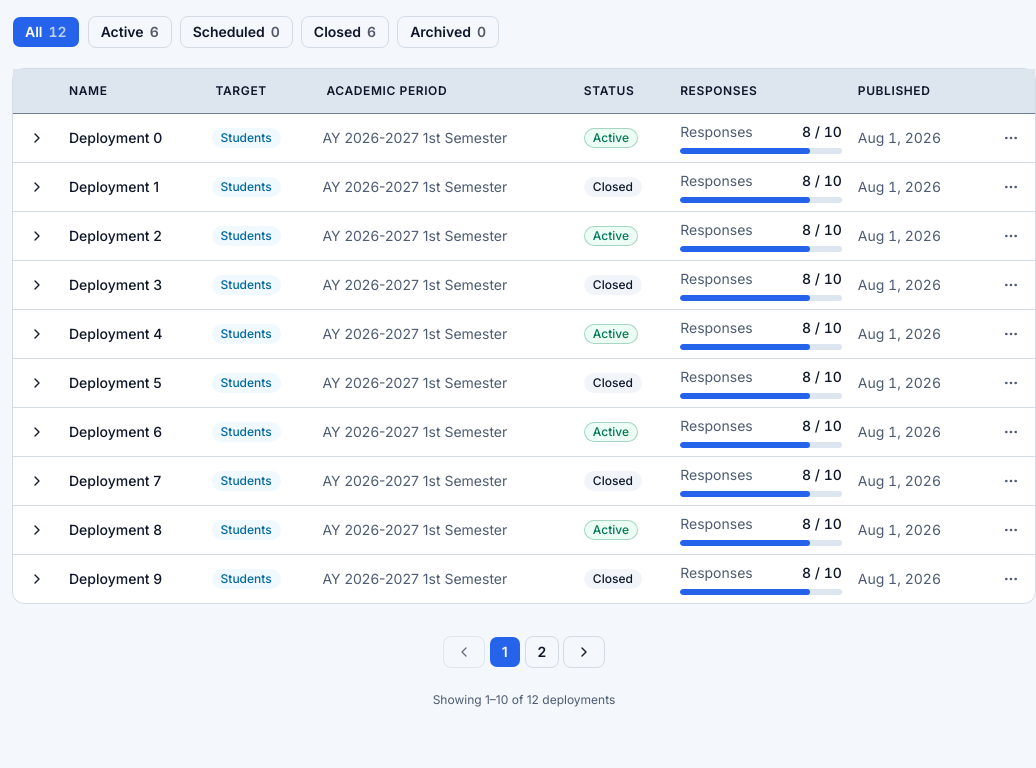
it: PublishedDeploymentsCollection › filters by status and paginates
This screenshot has width=1036, height=768.
Click the button "Closed 6" at x=345, y=32, box [301,16,389,48]
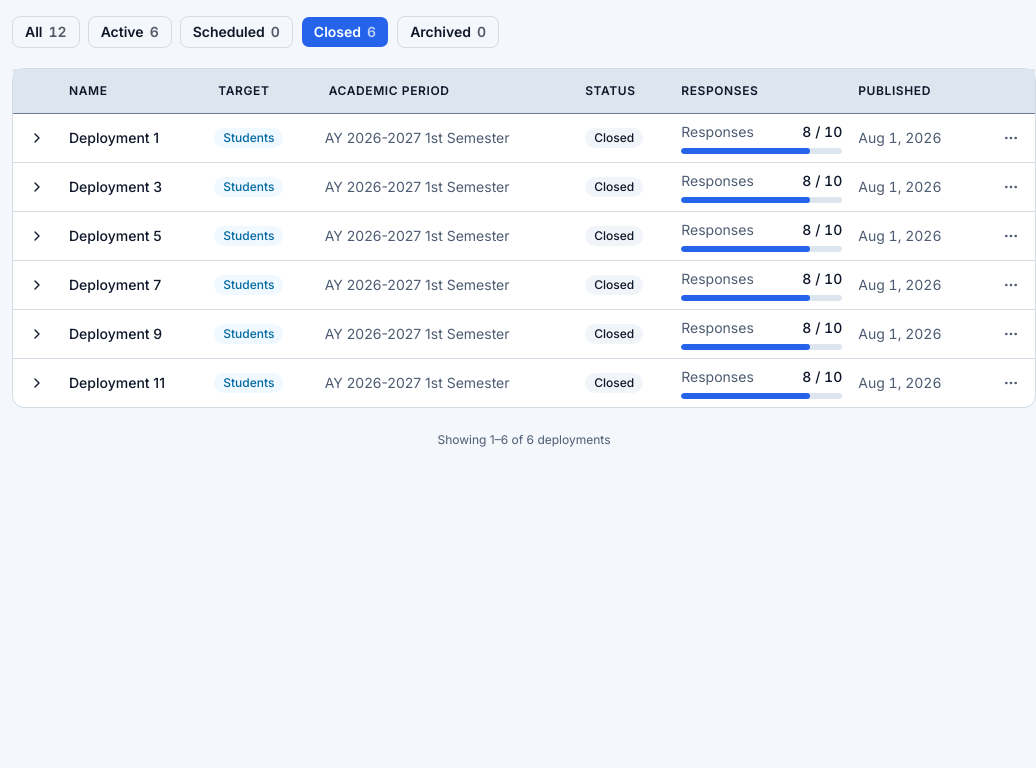
Check: the text "Deployment 1" is shown, box [69,128,159,146]
Check: the text "Deployment 0" is gone
Click the button "All 12" at x=46, y=32, box [12,16,80,48]
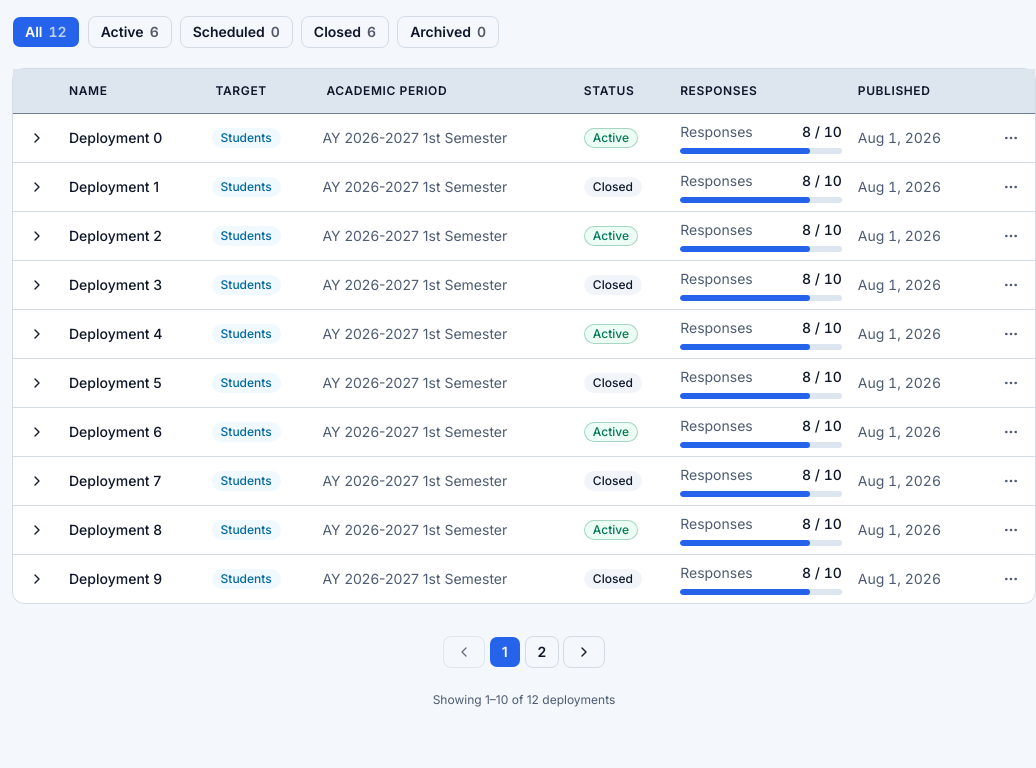
Check: the text "Deployment 0" is shown, box [69,128,162,146]
Check: the text "Showing 1–10 of 12 deployments" is shown, box [433,692,615,706]
